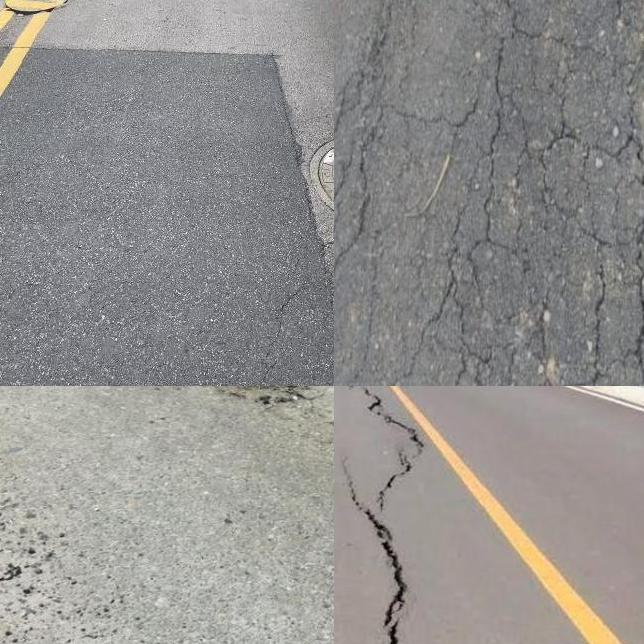Memanjang: (337, 386, 433, 644)
Retak Buaya: (409, 0, 644, 386)
Sambungan: (0, 45, 334, 386)
